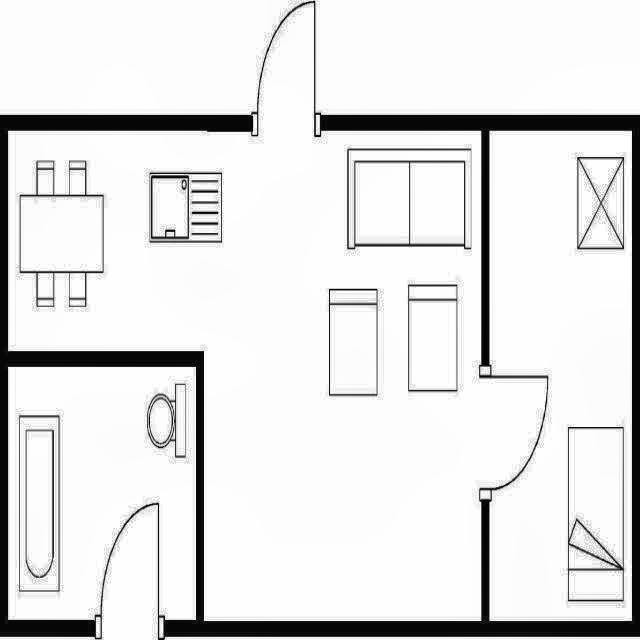room: (8, 131, 481, 621), (489, 131, 632, 621), (8, 367, 196, 620)
